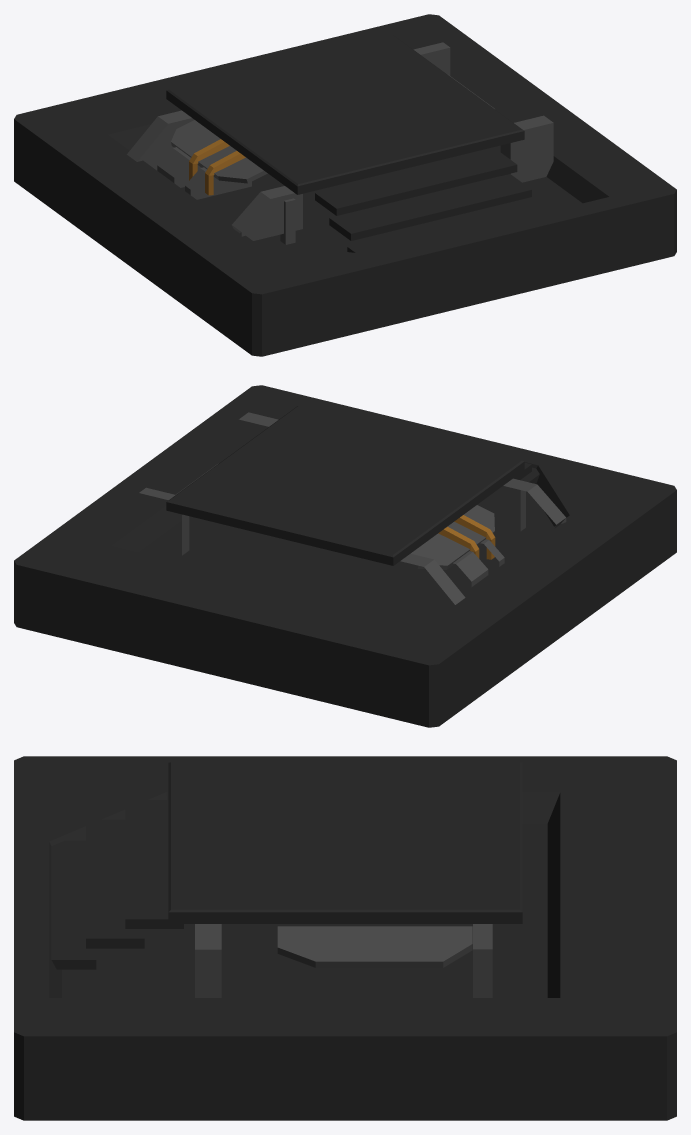
File: empbase.glb
3 renders of one model, top to bottom at view 1: azimuth 30°, elevation 25°; view 2: azimuth 150°, elevation 25°; view 3: azimuth 270°, elevation 25°, orthographic. The views are drawn at different scales.
Parts seen in each view (by area): view 1: empbase; view 2: empbase; view 3: empbase.
Part boxes in pixels (<box>): empbase: <box>14,14,676,356</box>; empbase: <box>14,385,676,727</box>; empbase: <box>14,756,676,1120</box>.
Bounding box in the file's own units: 100 × 24.06 × 100.
Materials: 1 (1 with a texture image).
